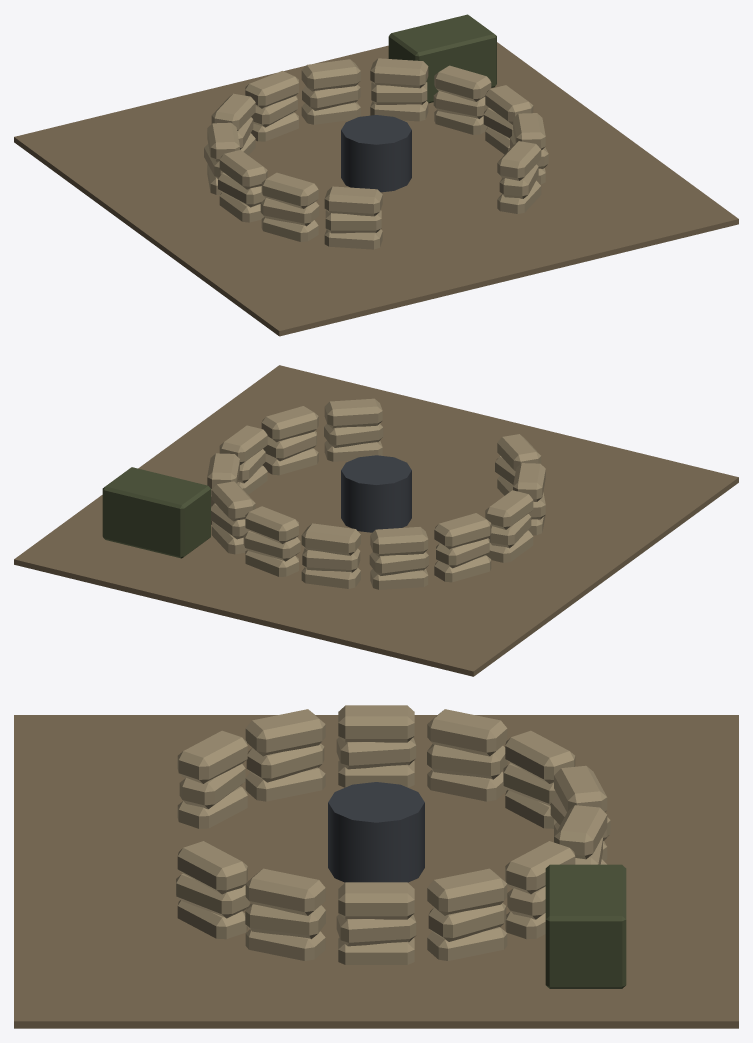
File: searchlight.glb
The picture shows the model from 3 angles, top to bottom: view 1: azimuth 30°, elevation 25°; view 2: azimuth 150°, elevation 25°; view 3: azimuth 270°, elevation 25°; orthographic projection. The views are drawn at different scales.
Visible parts, largest first — view 1: searchlight; view 2: searchlight; view 3: searchlight.
Boxes of the visible parts, box(x1,y1,x2,y2) form: searchlight: box(14, 14, 738, 336); searchlight: box(14, 365, 738, 676); searchlight: box(14, 705, 738, 1028).
Size of the model in its own units: 9 by 1.1 by 9.
